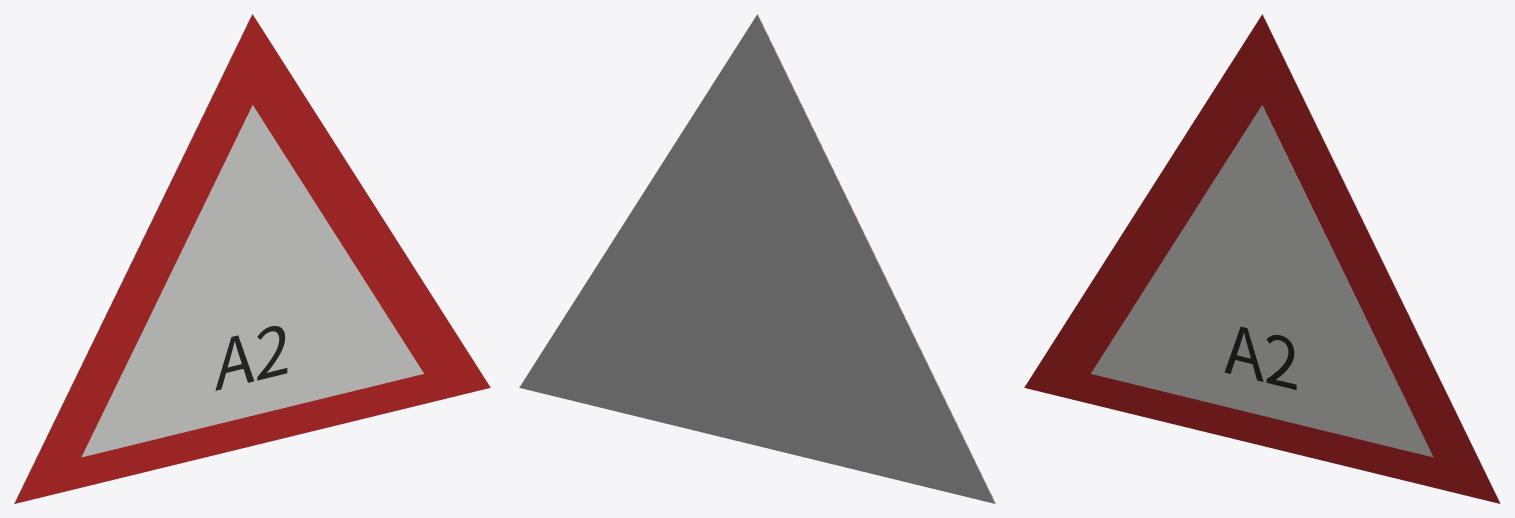
The picture shows the model from 3 angles, left to right: view 1: azimuth 30°, elevation 25°; view 2: azimuth 150°, elevation 25°; view 3: azimuth 330°, elevation 25°; orthographic projection.
Visible parts, largest first — view 1: A2_int01, A2_ext00, A2_txt02, A2_dos; view 2: A2_dos; view 3: A2_int01, A2_ext00, A2_txt02, A2_dos.
Part boxes in pixels (x1,y1,x2,y2): A2_int01: [81, 105, 423, 457]; A2_ext00: [14, 14, 490, 503]; A2_txt02: [215, 326, 287, 390]; A2_dos: [14, 14, 252, 503]; A2_dos: [519, 14, 995, 503]; A2_int01: [1091, 105, 1433, 457]; A2_ext00: [1024, 14, 1500, 503]; A2_txt02: [1224, 326, 1296, 389]; A2_dos: [1262, 14, 1500, 503].
Bounding box in the file's own units: 1 × 0.866 × 0.0025.
